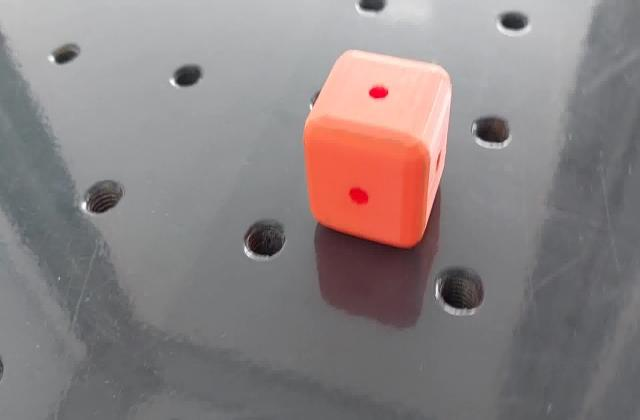cube: (300, 46, 454, 252)
